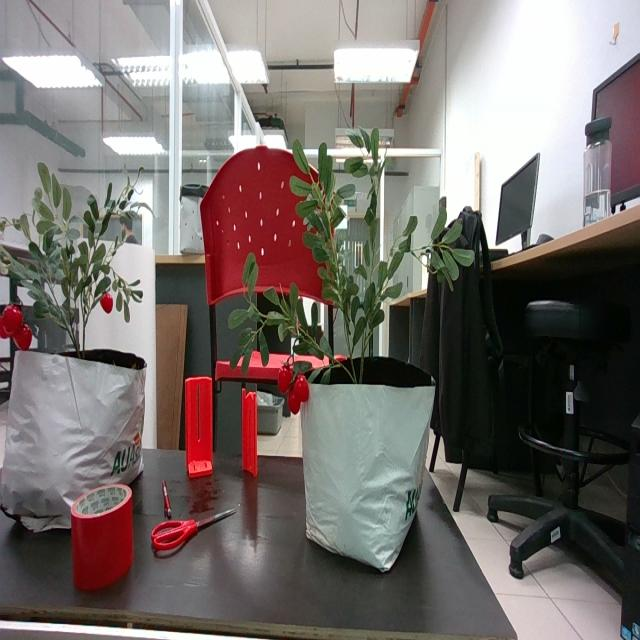Soilbag: (301, 356, 436, 575), (0, 351, 146, 534)
Tomato: (278, 356, 309, 415), (0, 303, 36, 352)
plant: (228, 128, 488, 416), (0, 163, 154, 358)
